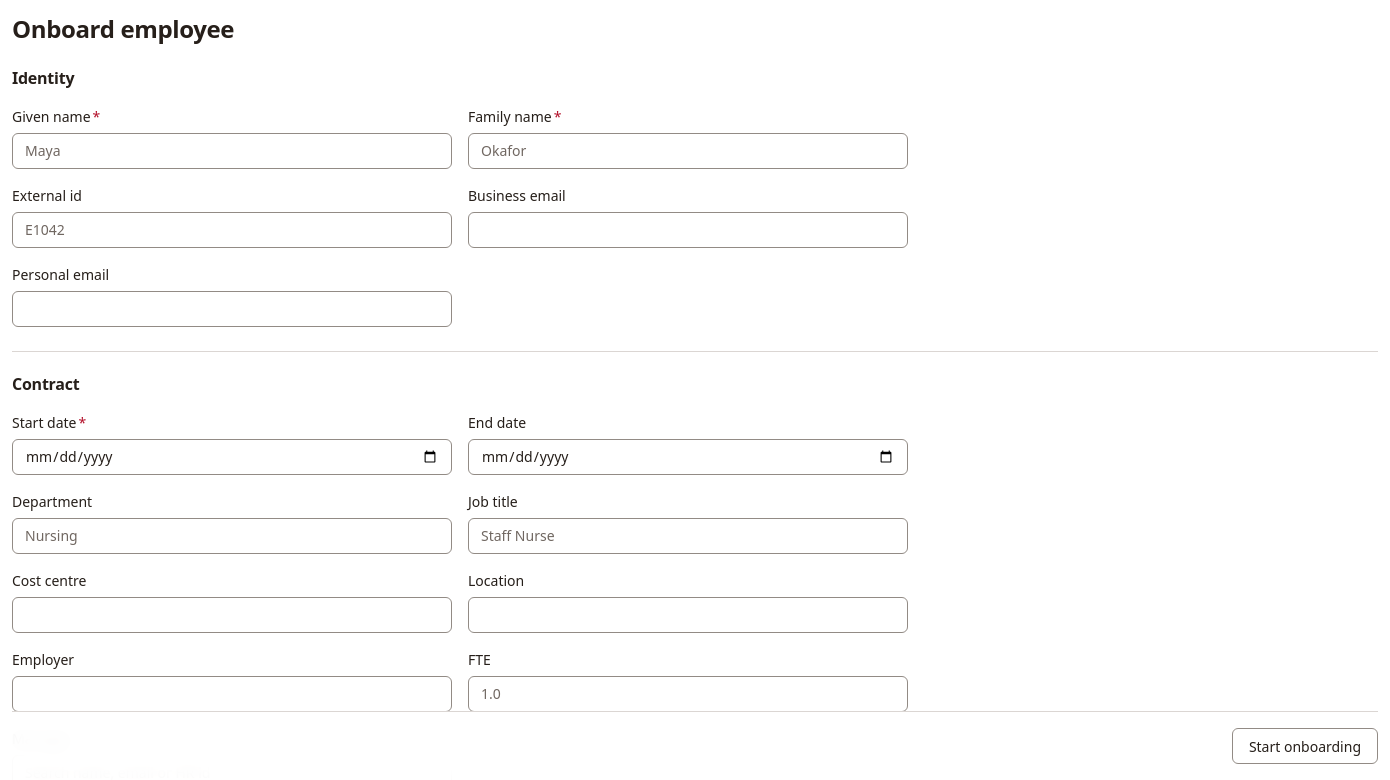
Scenario: GuidedOnboardingPage › names every missing required field instead of sending the request
The image size is (1390, 780).
Step 1. Click the button "Start onboarding" → (1305, 746), box [1232,728,1378,764]
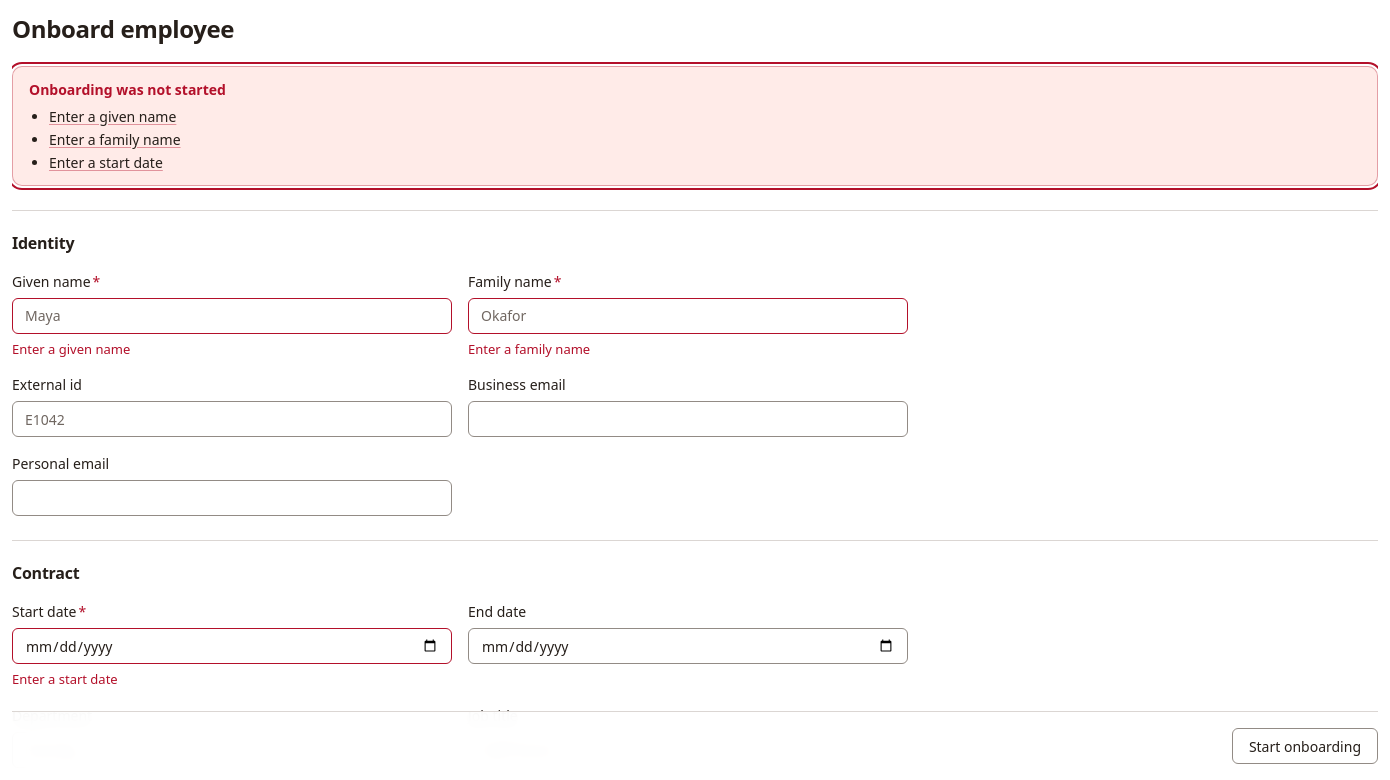
Expected: the button "Enter a given name" is shown, [49,106,176,127]
Expected: the button "Enter a start date" is shown, [49,152,163,173]
